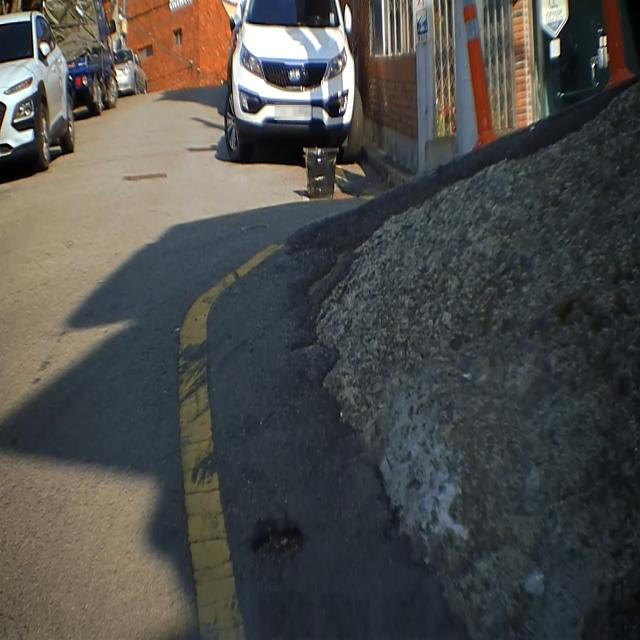Pothole: (240, 507, 312, 574)
